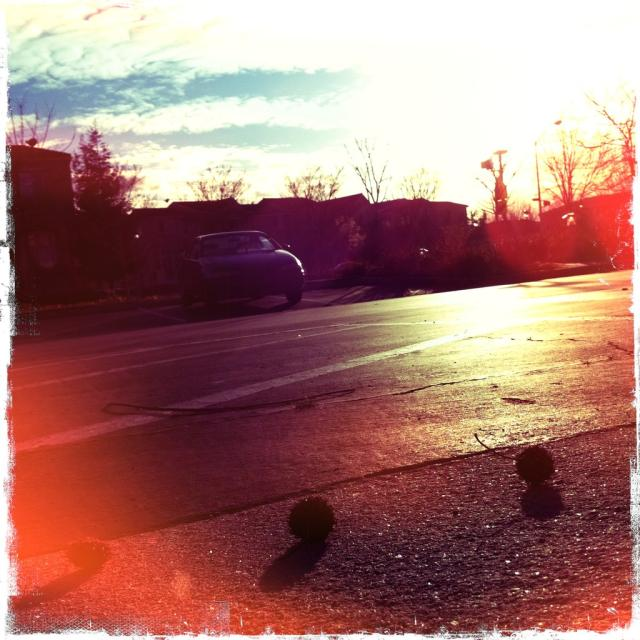car: (178, 221, 313, 310)
